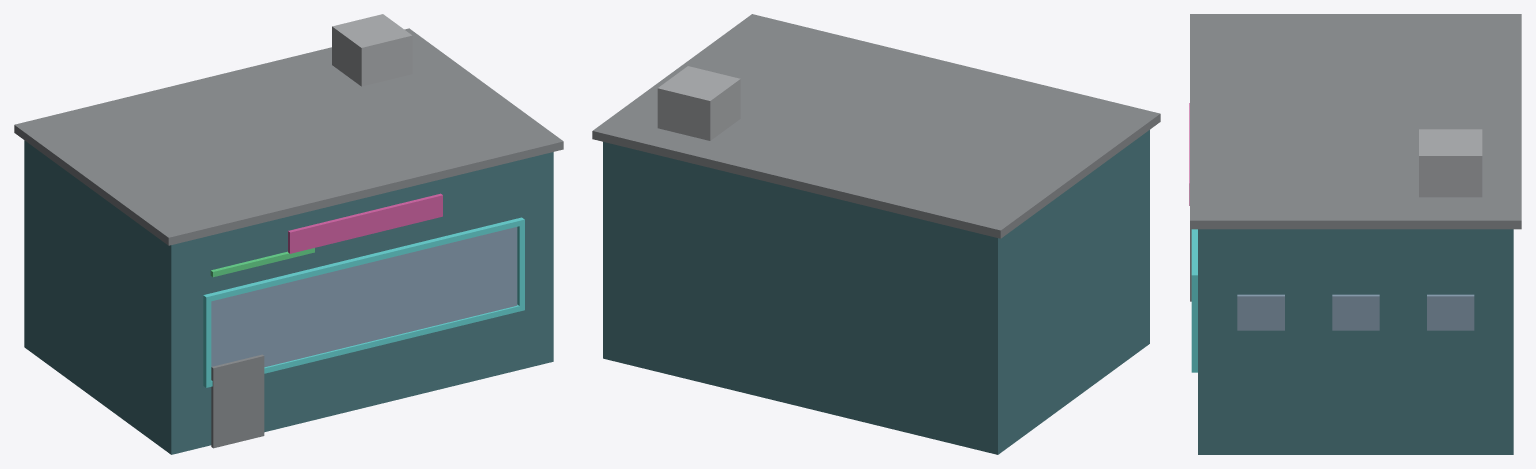
Rendered from building-internet-cafe.glb.
The picture shows the model from 3 angles, left to right: view 1: azimuth 30°, elevation 25°; view 2: azimuth 150°, elevation 25°; view 3: azimuth 270°, elevation 25°; orthographic projection. The views are drawn at different scales.
Visible parts, largest first — view 1: building-internet-cafe_part_0, building-internet-cafe_part_1, building-internet-cafe_part_2, building-internet-cafe_part_13, building-internet-cafe_part_9, building-internet-cafe_part_7, building-internet-cafe_part_3, building-internet-cafe_part_4, building-internet-cafe_part_8, building-internet-cafe_part_5, building-internet-cafe_part_6; view 2: building-internet-cafe_part_0, building-internet-cafe_part_1, building-internet-cafe_part_13; view 3: building-internet-cafe_part_1, building-internet-cafe_part_0, building-internet-cafe_part_13, building-internet-cafe_part_11, building-internet-cafe_part_12, building-internet-cafe_part_10, building-internet-cafe_part_6, building-internet-cafe_part_3.
Part boxes in pixels (x1,y1,x2,y2): building-internet-cafe_part_0: [24, 140, 553, 454]; building-internet-cafe_part_1: [14, 28, 563, 245]; building-internet-cafe_part_2: [211, 227, 517, 367]; building-internet-cafe_part_13: [332, 14, 412, 86]; building-internet-cafe_part_9: [211, 354, 264, 448]; building-internet-cafe_part_7: [288, 193, 442, 253]; building-internet-cafe_part_3: [203, 217, 524, 302]; building-internet-cafe_part_4: [203, 304, 524, 387]; building-internet-cafe_part_8: [210, 248, 314, 277]; building-internet-cafe_part_5: [203, 299, 211, 384]; building-internet-cafe_part_6: [517, 223, 524, 307]; building-internet-cafe_part_0: [603, 130, 1149, 454]; building-internet-cafe_part_1: [592, 14, 1160, 238]; building-internet-cafe_part_13: [657, 66, 740, 140]; building-internet-cafe_part_1: [1190, 14, 1521, 229]; building-internet-cafe_part_0: [1198, 229, 1513, 454]; building-internet-cafe_part_13: [1419, 129, 1482, 197]; building-internet-cafe_part_11: [1332, 294, 1379, 330]; building-internet-cafe_part_12: [1237, 294, 1284, 330]; building-internet-cafe_part_10: [1427, 294, 1474, 330]; building-internet-cafe_part_6: [1191, 281, 1197, 368]; building-internet-cafe_part_3: [1191, 229, 1197, 280].
Bounding box in the file's own units: 15.5 × 9.75 × 10.53.
